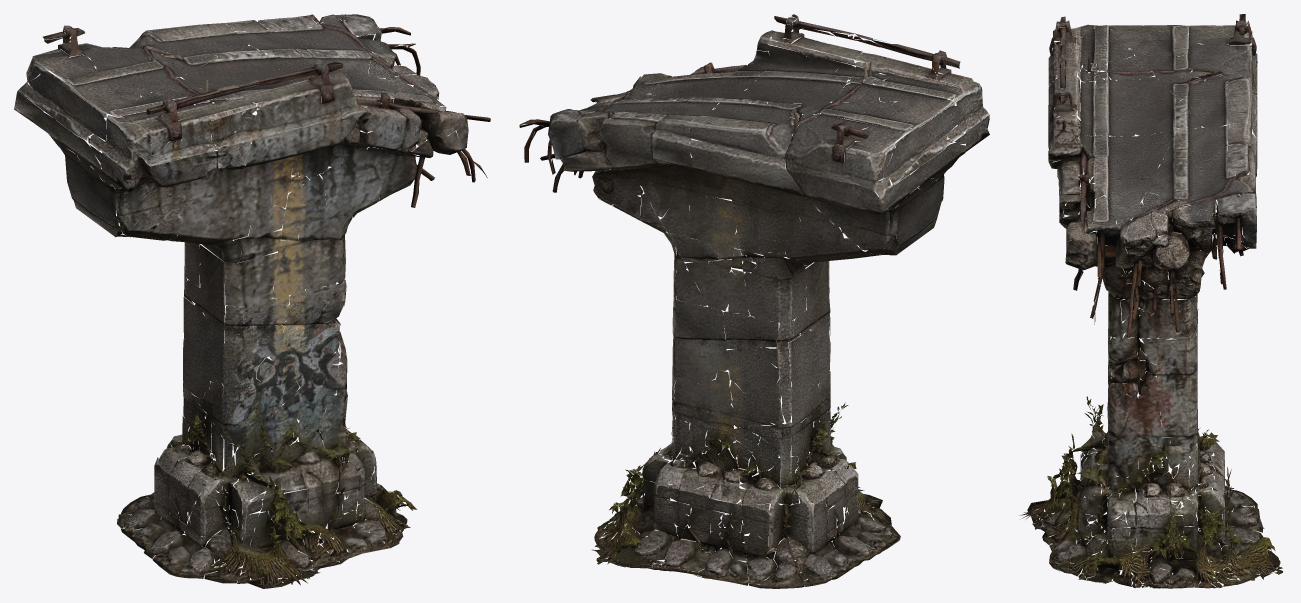
The model's file is p_highway_pillar.glb.
3 views of the same model, side by side, from view 1: azimuth 30°, elevation 25°; view 2: azimuth 150°, elevation 25°; view 3: azimuth 270°, elevation 25° (orthographic). The views are drawn at different scales.
Visible parts, largest first — view 1: tripo_node_45037504-2ea7-446b-b408-04a1e4cb3067; view 2: tripo_node_45037504-2ea7-446b-b408-04a1e4cb3067; view 3: tripo_node_45037504-2ea7-446b-b408-04a1e4cb3067.
Boxes of the visible parts, x1,y1,x2,y2 form: tripo_node_45037504-2ea7-446b-b408-04a1e4cb3067: (14, 14, 490, 588); tripo_node_45037504-2ea7-446b-b408-04a1e4cb3067: (519, 14, 989, 588); tripo_node_45037504-2ea7-446b-b408-04a1e4cb3067: (1019, 14, 1282, 588).
Bounding box in the file's own units: 0.8312 × 0.9852 × 0.533.
1 material, 1 textured.
